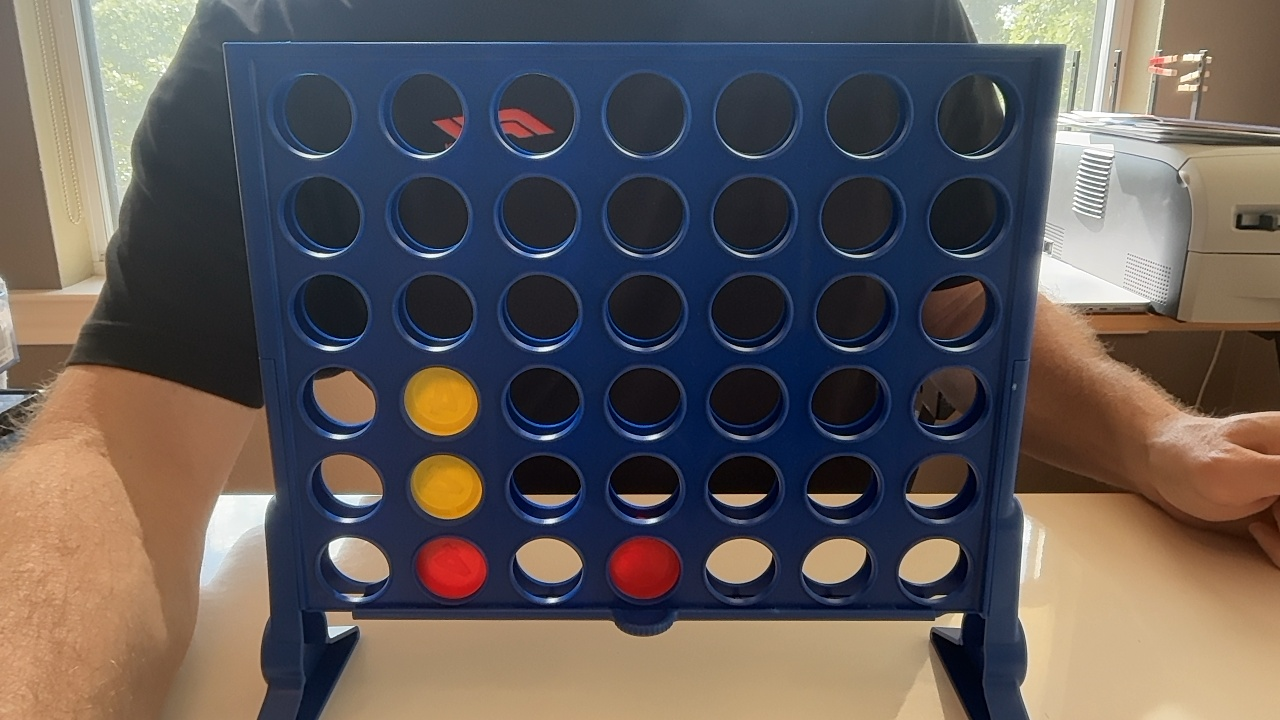red piece: (608, 537, 680, 600), (416, 537, 487, 599)
yellow piece: (404, 367, 478, 435), (411, 454, 482, 519)
